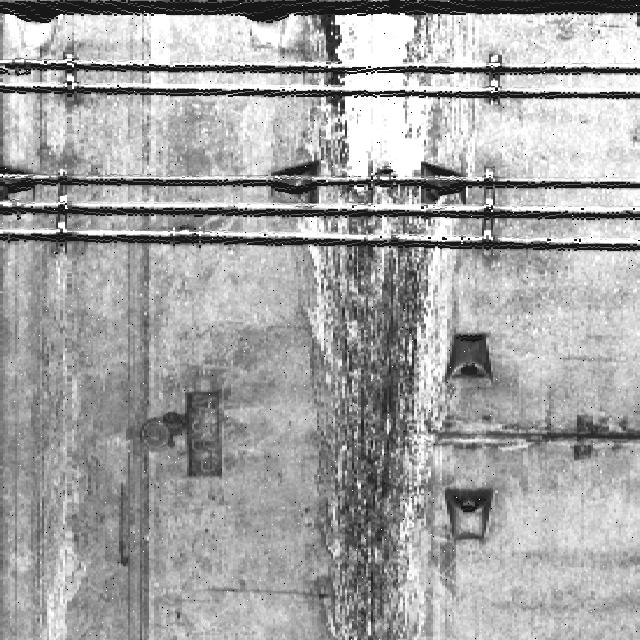leakage: (280, 8, 456, 635)
